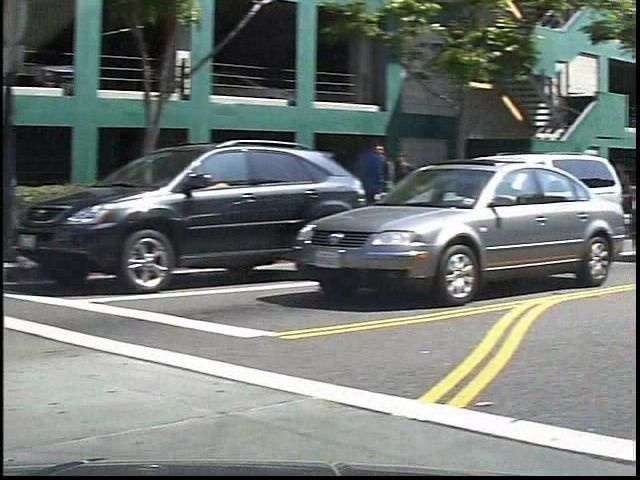person: (368, 132, 412, 240)
